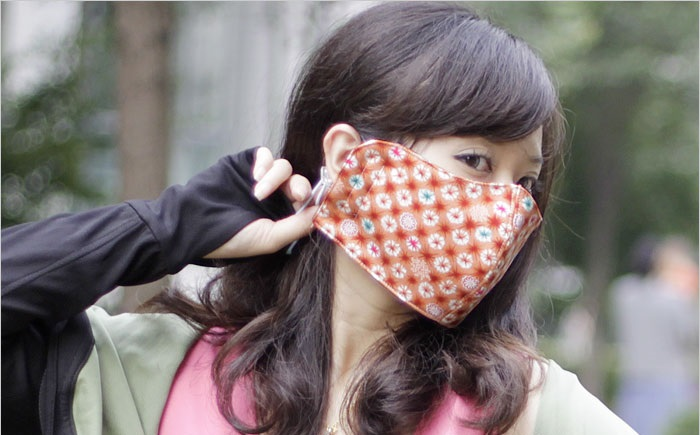face_mask: (356, 100, 541, 308)
